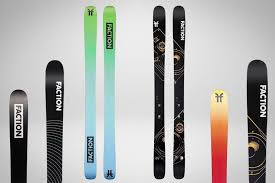skis: (4, 60, 66, 183), (211, 59, 267, 183), (82, 5, 118, 183), (151, 6, 187, 183)
